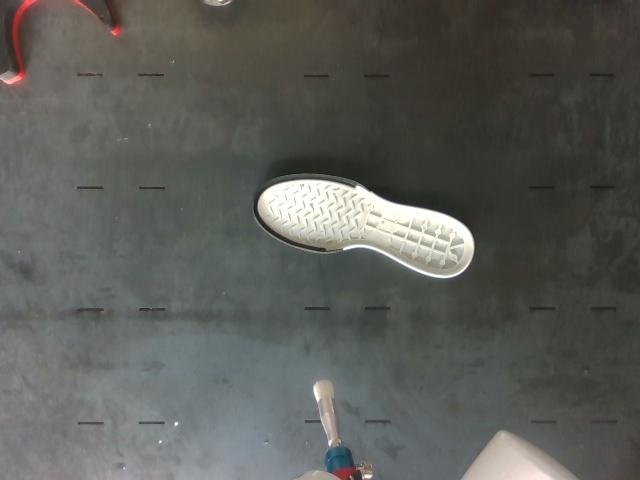shoes: (254, 174, 473, 276)
